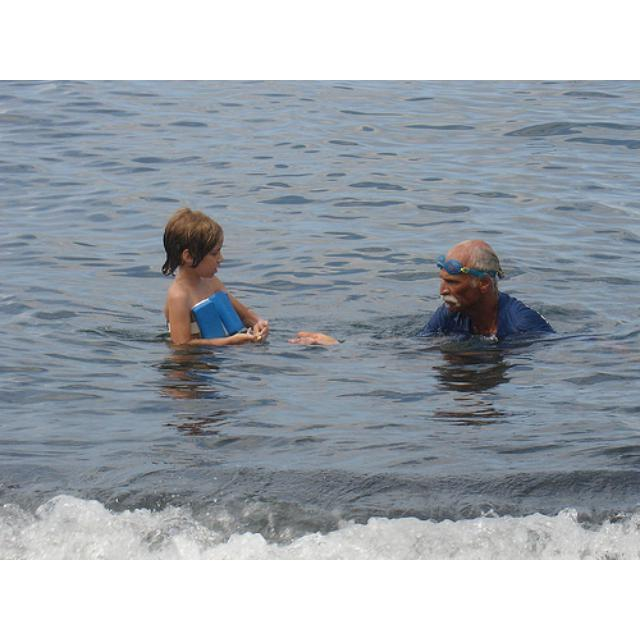human: (424, 235, 564, 350), (157, 205, 267, 349)
